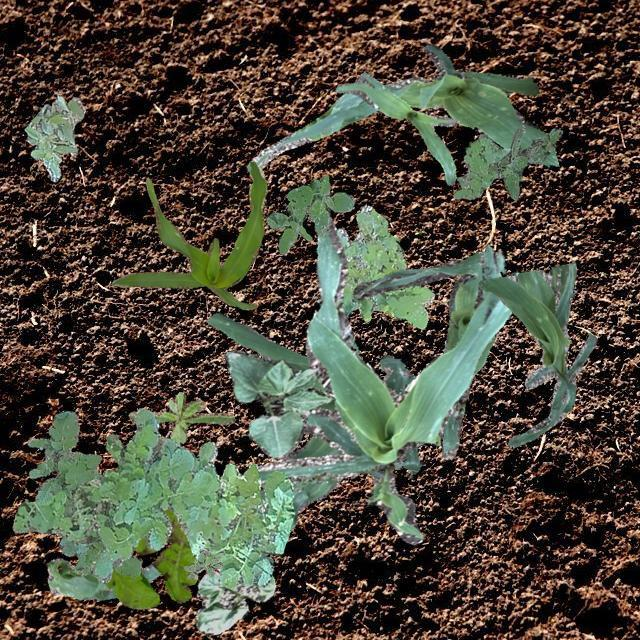crop: (255, 217, 517, 544), (205, 312, 418, 528), (245, 42, 558, 170), (353, 251, 493, 458), (110, 160, 266, 308), (478, 262, 596, 446), (334, 72, 458, 185), (224, 348, 334, 458), (194, 570, 274, 634), (46, 558, 160, 598)
weed: (12, 408, 294, 588), (27, 410, 142, 576), (334, 205, 434, 328), (102, 507, 196, 608), (266, 174, 352, 253), (128, 392, 235, 446), (487, 124, 561, 198), (24, 94, 84, 180), (452, 132, 512, 198), (182, 546, 222, 578)
